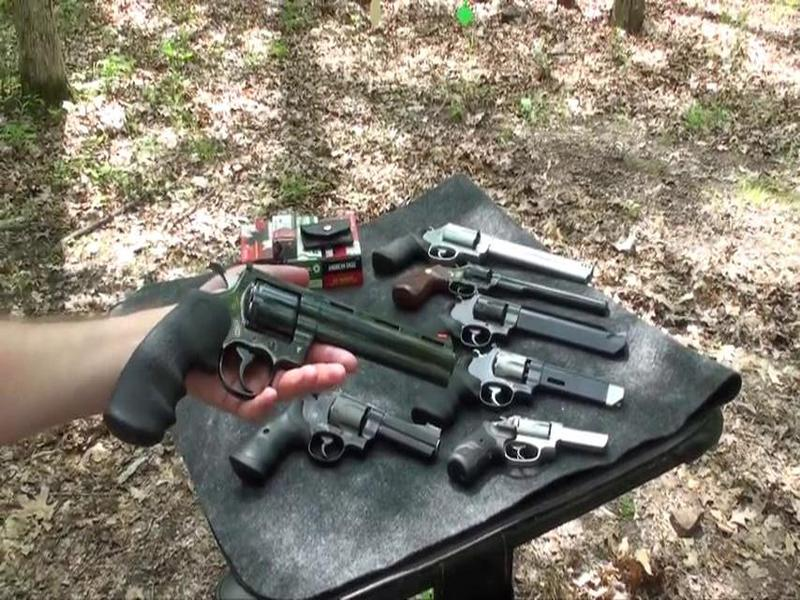Revolver: (108, 254, 466, 480)
